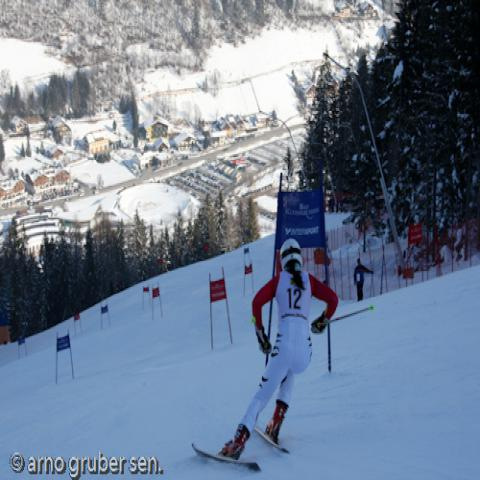car: (213, 161, 222, 171), (227, 168, 235, 178), (223, 166, 230, 176), (226, 186, 229, 190), (206, 188, 210, 190)
